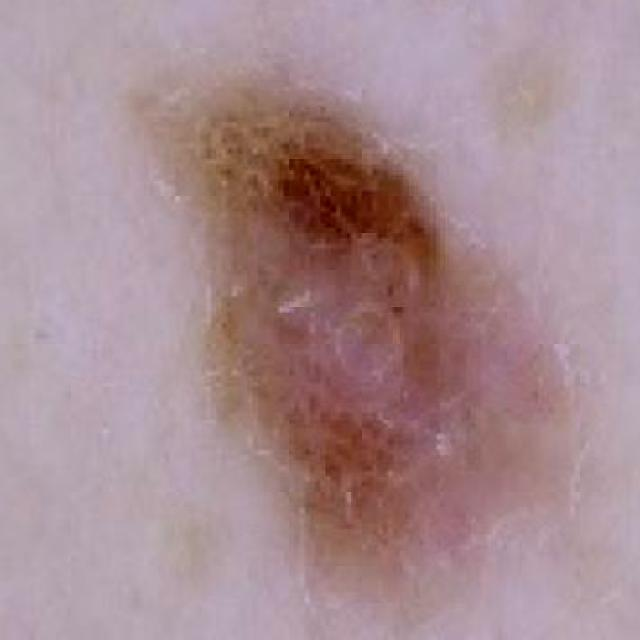MEL: (121, 11, 574, 639)
